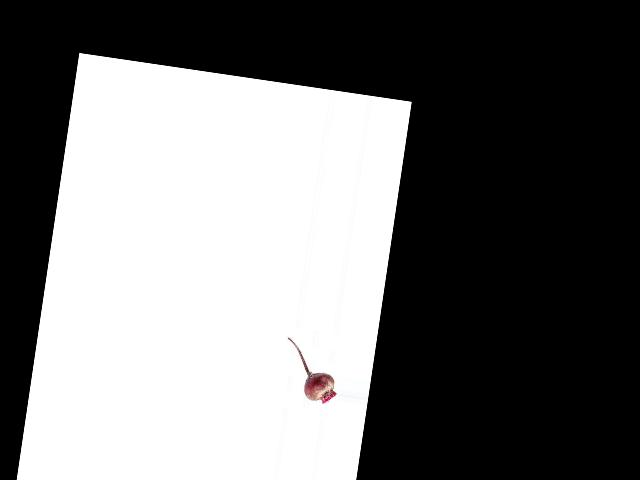beet: (278, 337, 343, 404)
